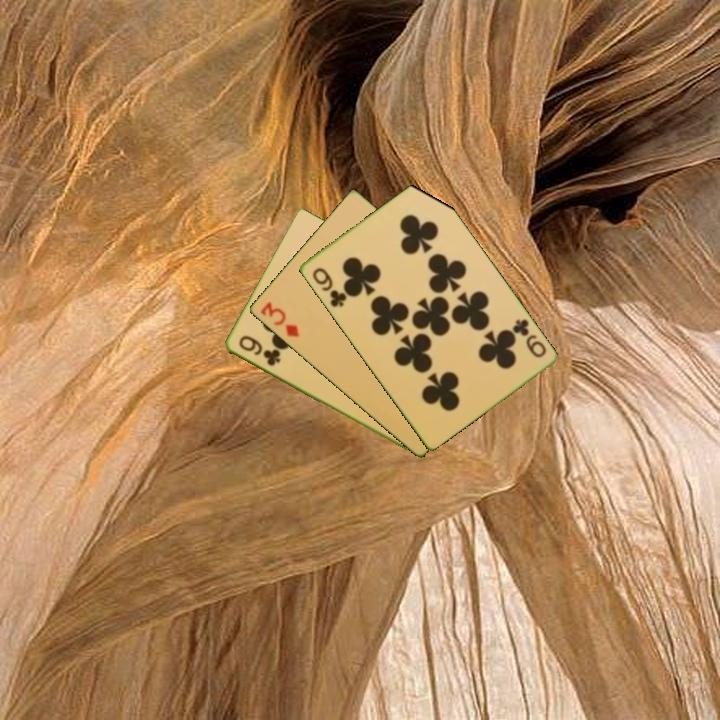3d: (256, 298, 302, 340)
9c: (308, 264, 349, 310), (508, 315, 549, 361), (235, 332, 283, 369)
